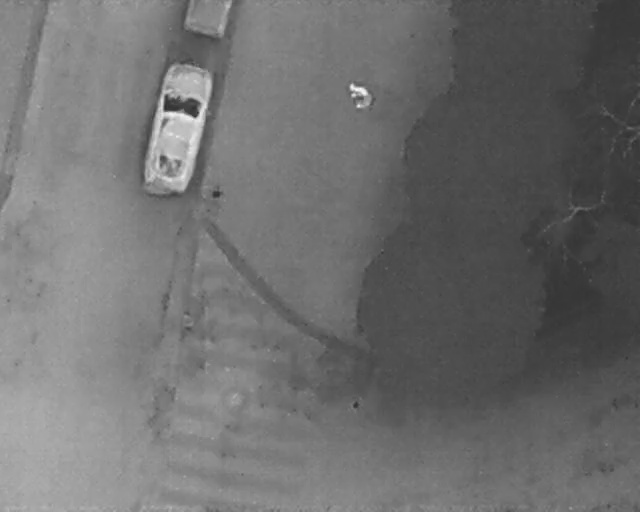Car: (134, 55, 219, 203), (181, 0, 235, 40)
Person: (347, 83, 375, 110)
